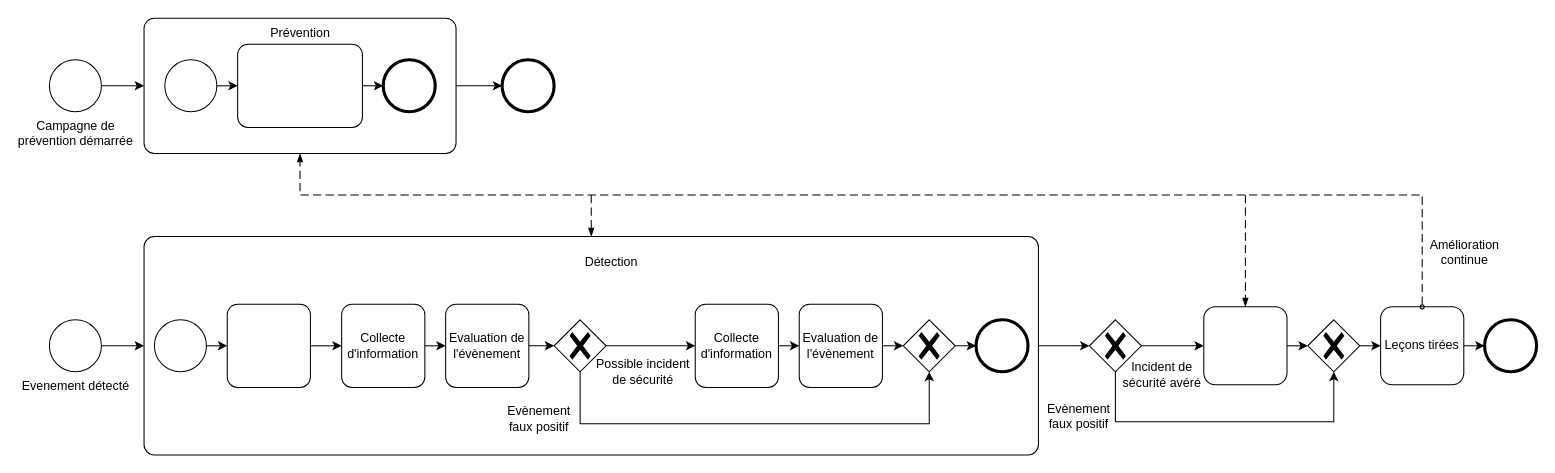
Image size: 1555x473. Some labels were removed from this diagram. Here are the shapes that lost their labels. From the top down, the centre of each, then its label:
At (x=299, y=85): "Education, d'entraînement et sensibilisation à la sécurité".
At (x=268, y=345): "Notification".
At (x=1245, y=345): "Réponse à incident".
